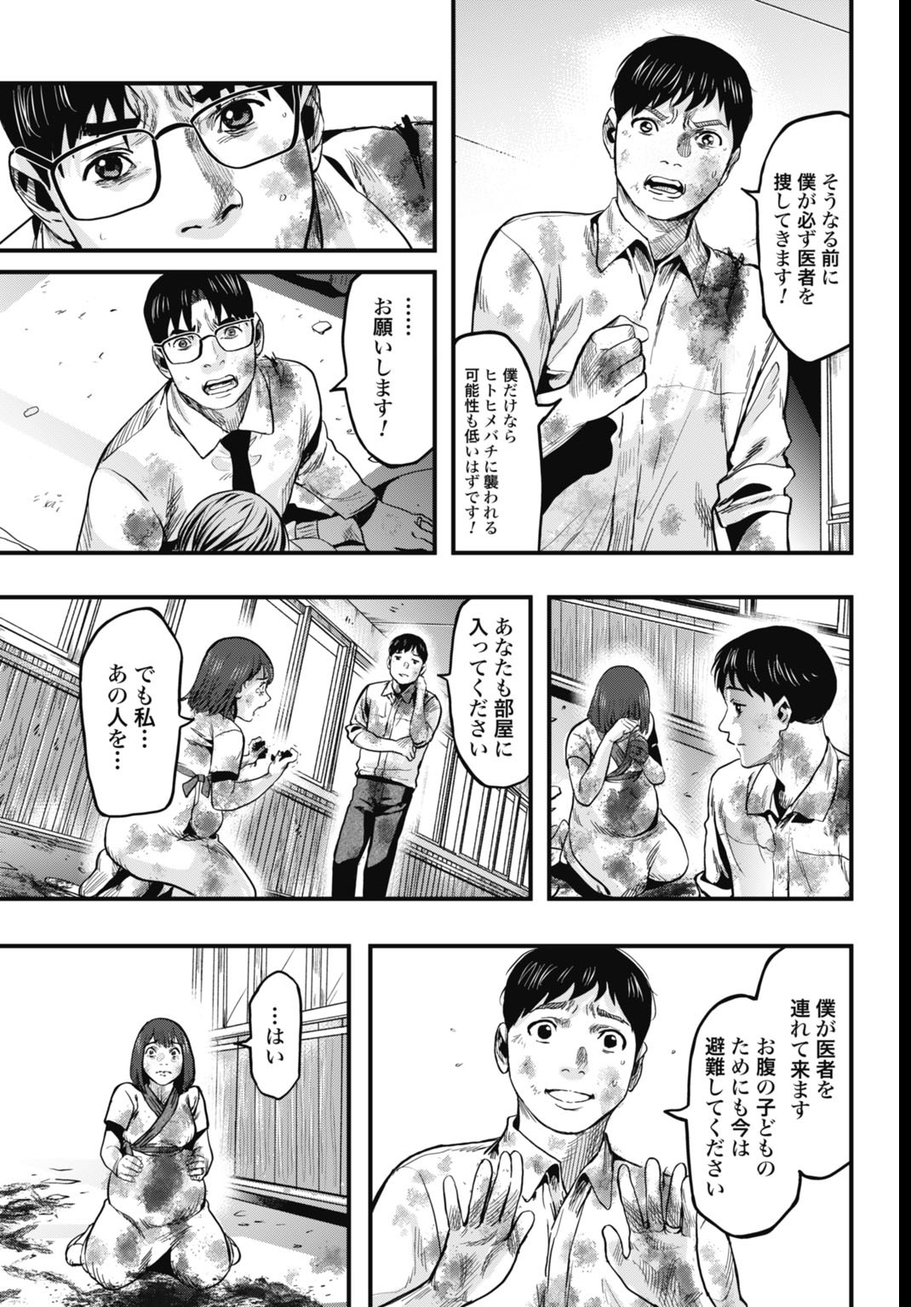bubbles: (661, 945, 853, 1242), (740, 105, 854, 362), (72, 606, 200, 819), (452, 329, 559, 552), (326, 271, 436, 471), (430, 596, 533, 795), (235, 966, 308, 1104)
